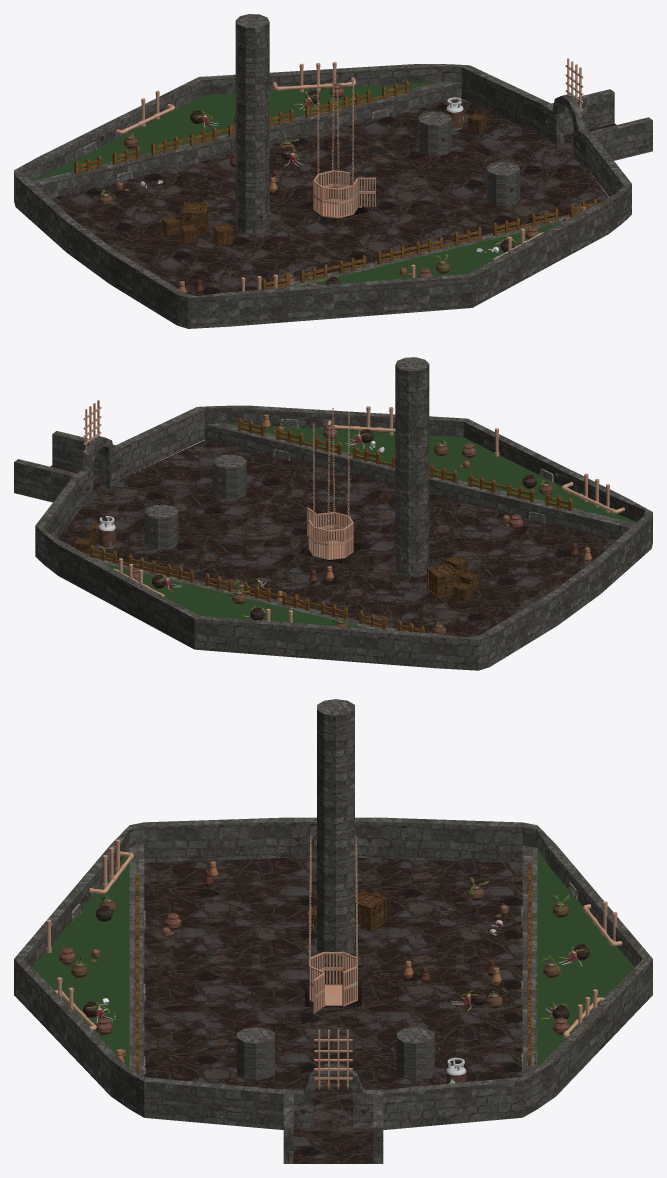
File: room_start_placeholder.glb
3 views of the same model, one above another, from view 1: azimuth 30°, elevation 25°; view 2: azimuth 150°, elevation 25°; view 3: azimuth 270°, elevation 25° (orthographic). The views are drawn at different scales.
Parts seen in each view (by area): view 1: Plane.001, floor, Cylinder.042, Elevator, Cube.002, Cube, Cylinder.002, Cylinder.001, gate.003; view 2: Plane.001, floor, Cylinder.042, Elevator, Cube, Cube.002, Cylinder.001, Cylinder.002, gate.003, Cylinder.046_cell.001; view 3: floor, Plane.001, Cylinder.042, Elevator, Cylinder.002, Cylinder.001, gate.003, Cube, Cube.002.
Part boxes in pixels (x1=…): Plane.001: x1=14, y1=64, x2=652, y2=328; floor: x1=50, y1=98, x2=616, y2=295; Cylinder.042: x1=235, y1=14, x2=269, y2=234; Elevator: x1=313, y1=66, x2=358, y2=218; Cube.002: x1=262, y1=198, x2=596, y2=289; Cube: x1=74, y1=80, x2=409, y2=174; Cylinder.002: x1=486, y1=161, x2=520, y2=206; Cylinder.001: x1=418, y1=111, x2=451, y2=156; gate.003: x1=565, y1=58, x2=583, y2=110; Plane.001: x1=14, y1=405, x2=652, y2=670; floor: x1=50, y1=440, x2=616, y2=637; Cylinder.042: x1=395, y1=357, x2=429, y2=577; Elevator: x1=308, y1=408, x2=353, y2=559; Cube: x1=90, y1=545, x2=424, y2=632; Cube.002: x1=237, y1=417, x2=572, y2=511; Cylinder.001: x1=144, y1=504, x2=178, y2=549; Cylinder.002: x1=213, y1=454, x2=246, y2=499; gate.003: x1=83, y1=400, x2=101, y2=452; Cylinder.046_cell.001: x1=98, y1=516, x2=115, y2=548; floor: x1=144, y1=858, x2=522, y2=1163; Plane.001: x1=14, y1=817, x2=652, y2=1163; Cylinder.042: x1=317, y1=699, x2=354, y2=956; Elevator: x1=308, y1=836, x2=358, y2=1006; Cylinder.002: x1=237, y1=1027, x2=274, y2=1080; Cylinder.001: x1=397, y1=1027, x2=434, y2=1080; gate.003: x1=314, y1=1029, x2=352, y2=1089; Cube: x1=527, y1=862, x2=531, y2=1066; Cube.002: x1=135, y1=874, x2=139, y2=1073.
Bounding box in the file's own units: 36.74 × 19.06 × 32.
20 materials, 20 textured.
